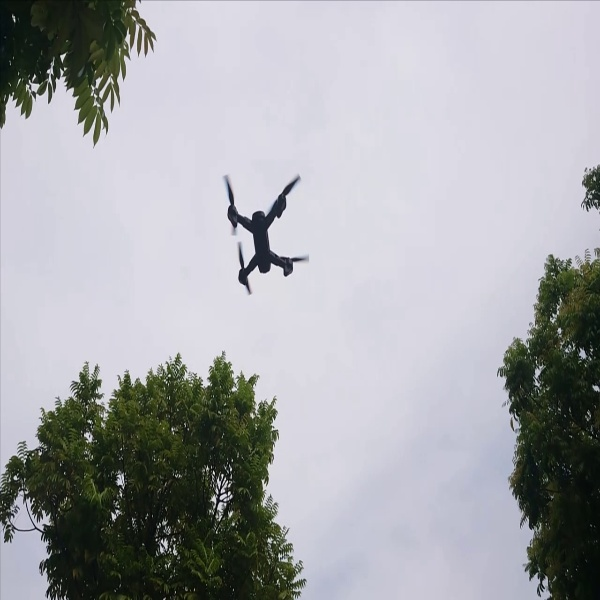drone: (216, 167, 316, 294)
